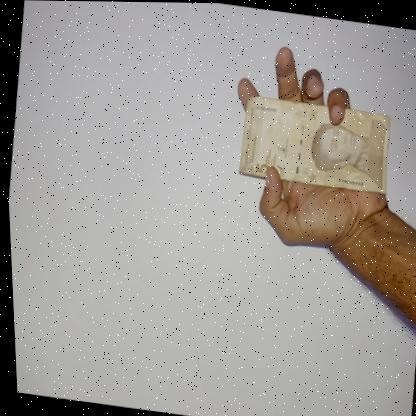five-front-vef: (233, 92, 394, 195)
